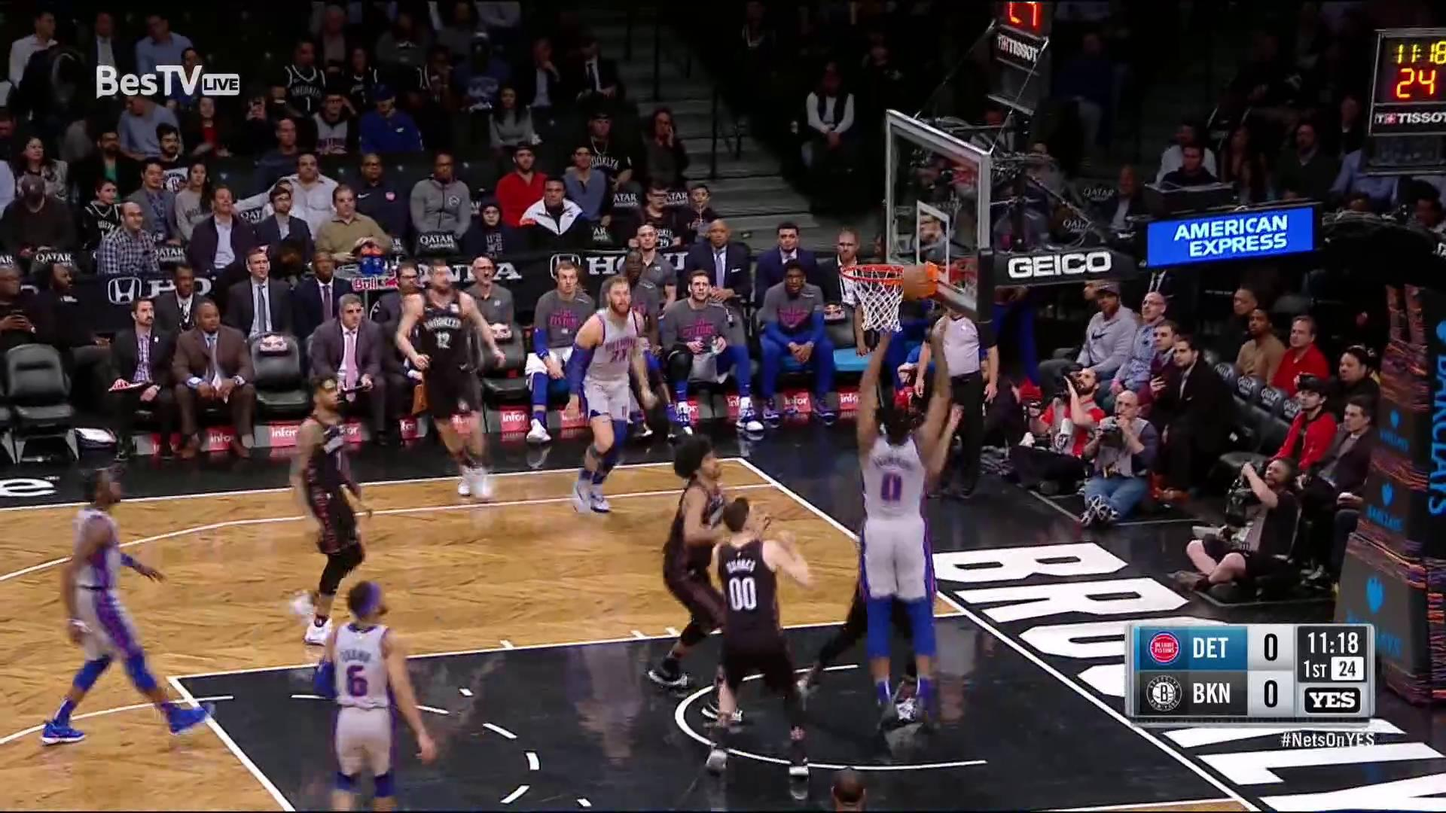basketball: (899, 262, 937, 298)
